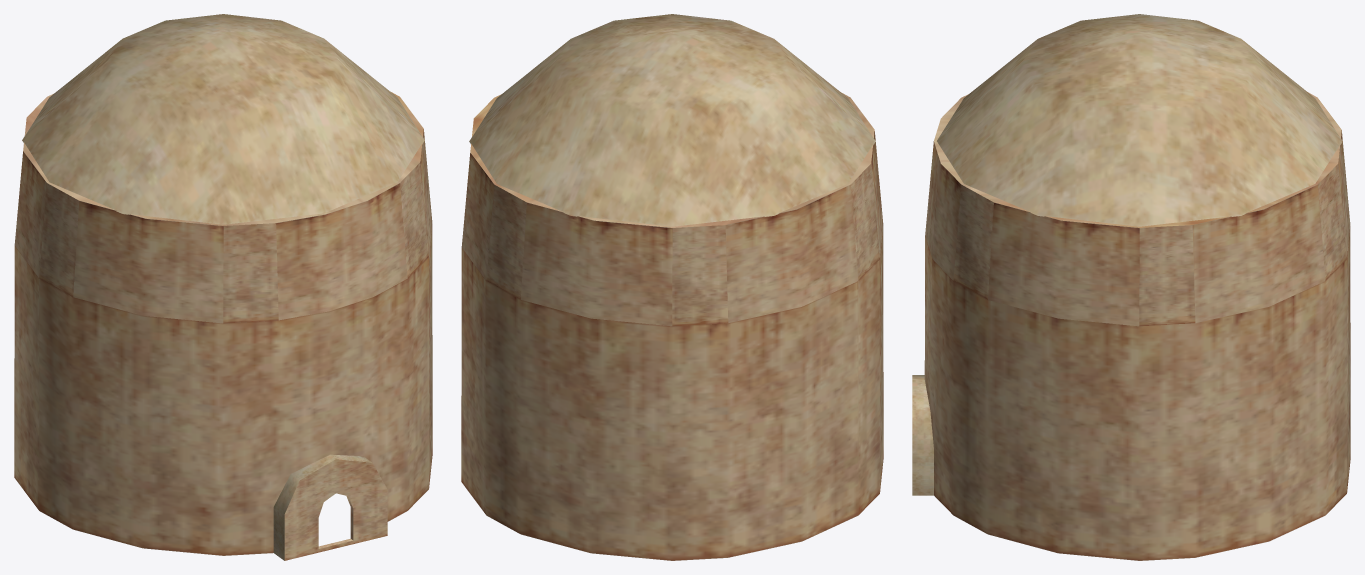
The model's file is thm_tato_imprv_building_s08_r0_mesh_l2.fbx.
The picture shows the model from 3 angles, left to right: view 1: azimuth 30°, elevation 25°; view 2: azimuth 150°, elevation 25°; view 3: azimuth 270°, elevation 25°; orthographic projection.
Parts seen in each view (by area): view 1: mesh_node; view 2: mesh_node; view 3: mesh_node.
Part boxes in pixels (bbox=[...]): mesh_node: bbox=[14, 14, 432, 560]; mesh_node: bbox=[461, 14, 883, 560]; mesh_node: bbox=[912, 14, 1350, 560].
Bounding box in the file's own units: 23.13 × 25.85 × 23.61.
Materials: 1 (1 with a texture image).
